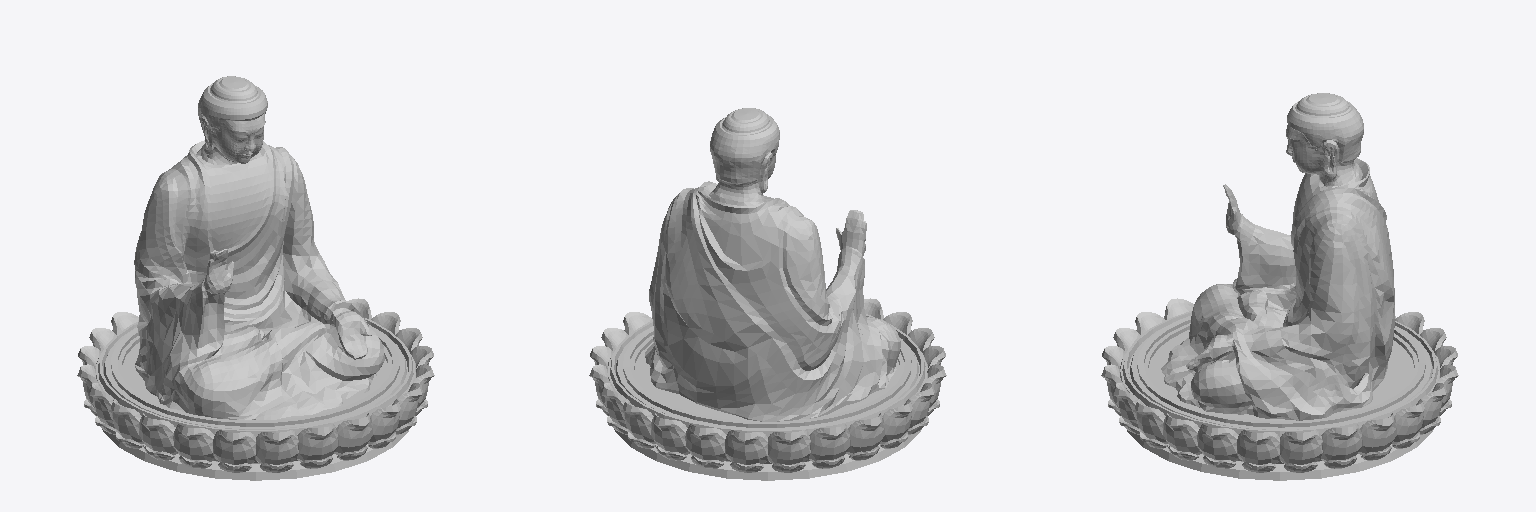
Rendered from the-buddha-statue-in-a-mountain2.obj.
3 renders of one model, left to right at view 1: azimuth 30°, elevation 25°; view 2: azimuth 150°, elevation 25°; view 3: azimuth 270°, elevation 25°, orthographic.
Visible parts, largest first — view 1: fo_L:polySurface18_fo_L:initialShadingGroup1_0, all_LOW:di_zuoLgroup2_all_LOW:initialShadingGroup1_0, all_LOW:group3polySurface12_all_LOW:initialShadingGroup1_0, all_LOW:group3polySurface16_all_LOW:initialShadingGroup1_0, all_LOW:polySurface15group3_all_LOW:initialShadingGroup1_0, all_LOW:group3polySurface17_all_LOW:initialShadingGroup1_0; view 2: fo_L:polySurface18_fo_L:initialShadingGroup1_0, all_LOW:di_zuoLgroup2_all_LOW:initialShadingGroup1_0, all_LOW:group3polySurface17_all_LOW:initialShadingGroup1_0, all_LOW:group3polySurface16_all_LOW:initialShadingGroup1_0, all_LOW:polySurface15group3_all_LOW:initialShadingGroup1_0, all_LOW:group3polySurface12_all_LOW:initialShadingGroup1_0; view 3: fo_L:polySurface18_fo_L:initialShadingGroup1_0, all_LOW:di_zuoLgroup2_all_LOW:initialShadingGroup1_0, all_LOW:polySurface15group3_all_LOW:initialShadingGroup1_0, all_LOW:group3polySurface12_all_LOW:initialShadingGroup1_0, all_LOW:group3polySurface17_all_LOW:initialShadingGroup1_0.
Boxes of the visible parts, <box> form: fo_L:polySurface18_fo_L:initialShadingGroup1_0: <box>134,76,384,419</box>; all_LOW:di_zuoLgroup2_all_LOW:initialShadingGroup1_0: <box>96,318,415,480</box>; all_LOW:group3polySurface12_all_LOW:initialShadingGroup1_0: <box>213,383,422,472</box>; all_LOW:group3polySurface16_all_LOW:initialShadingGroup1_0: <box>77,346,214,468</box>; all_LOW:polySurface15group3_all_LOW:initialShadingGroup1_0: <box>349,298,434,415</box>; all_LOW:group3polySurface17_all_LOW:initialShadingGroup1_0: <box>89,312,138,351</box>; fo_L:polySurface18_fo_L:initialShadingGroup1_0: <box>645,108,900,421</box>; all_LOW:di_zuoLgroup2_all_LOW:initialShadingGroup1_0: <box>608,314,927,480</box>; all_LOW:group3polySurface17_all_LOW:initialShadingGroup1_0: <box>601,383,810,472</box>; all_LOW:group3polySurface16_all_LOW:initialShadingGroup1_0: <box>809,346,946,468</box>; all_LOW:polySurface15group3_all_LOW:initialShadingGroup1_0: <box>589,312,652,415</box>; all_LOW:group3polySurface12_all_LOW:initialShadingGroup1_0: <box>864,298,934,351</box>; fo_L:polySurface18_fo_L:initialShadingGroup1_0: <box>1161,93,1394,420</box>; all_LOW:di_zuoLgroup2_all_LOW:initialShadingGroup1_0: <box>1120,310,1439,480</box>; all_LOW:polySurface15group3_all_LOW:initialShadingGroup1_0: <box>1163,413,1396,472</box>; all_LOW:group3polySurface12_all_LOW:initialShadingGroup1_0: <box>1101,312,1167,448</box>; all_LOW:group3polySurface17_all_LOW:initialShadingGroup1_0: <box>1392,312,1458,448</box>.
Bounding box in the file's own units: 15.88 × 15.5 × 15.88.